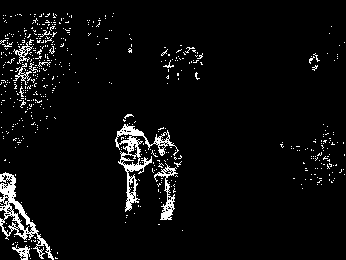person: (113, 111, 145, 218), (154, 119, 187, 219)
